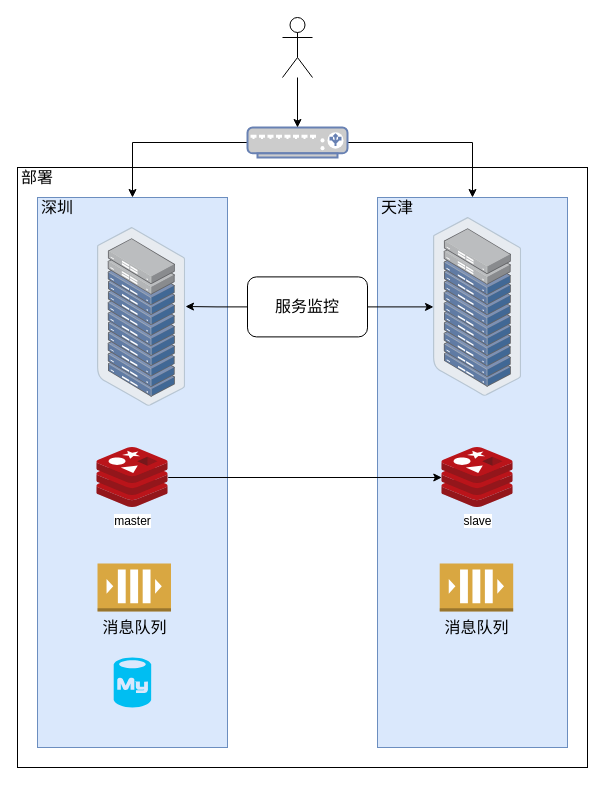
The diagram is 605 pixels wide and 785 high, and some of its shapes have lost their labels. Here are the shapes that lost their labels. From the top down, the centre of each, then its label:
At point (297, 47): "Actor".
At point (132, 682): "MDB".
